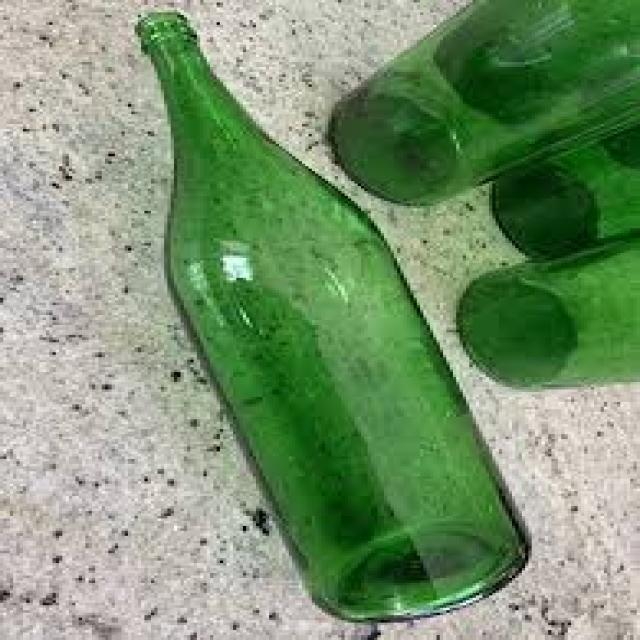glass: (131, 8, 525, 620), (325, 0, 637, 206), (456, 231, 637, 392), (489, 107, 637, 261)
